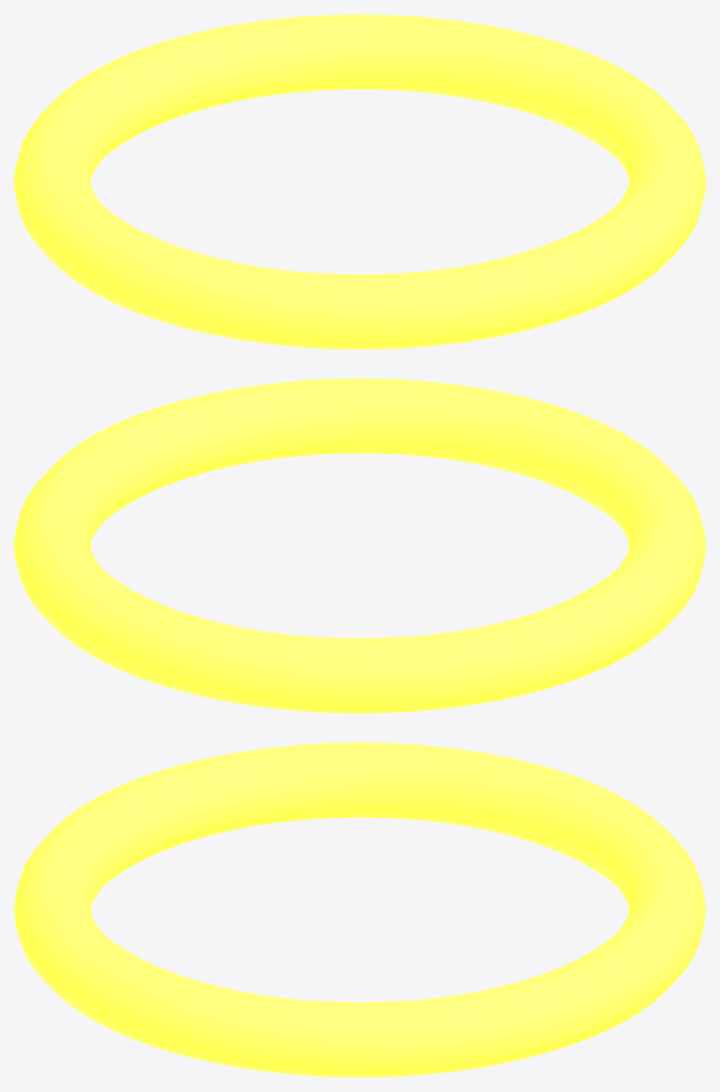
Rendered from aureola.glb.
3 renders of one model, top to bottom at view 1: azimuth 30°, elevation 25°; view 2: azimuth 150°, elevation 25°; view 3: azimuth 270°, elevation 25°, orthographic.
Parts seen in each view (by area): view 1: aureola; view 2: aureola; view 3: aureola.
Part boxes in pixels (bbox=[...]): aureola: bbox=[14, 14, 705, 349]; aureola: bbox=[14, 378, 705, 713]; aureola: bbox=[14, 742, 705, 1077].
Bounding box in the file's own units: 0.81 × 0.0877 × 0.81.
